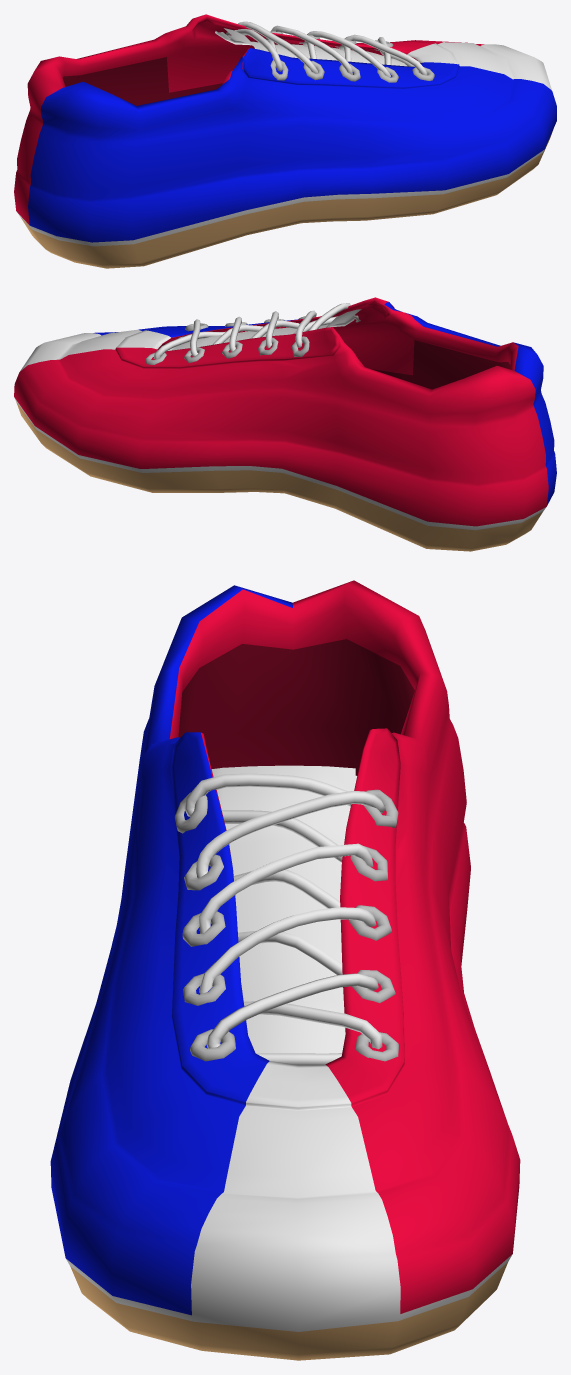
File: RightBowlingShoes.fbx
3 renders of one model, top to bottom at view 1: azimuth 30°, elevation 25°; view 2: azimuth 150°, elevation 25°; view 3: azimuth 270°, elevation 25°, orthographic. The views are drawn at different scales.
Visible parts, largest first — view 1: Shoes.R; view 2: Shoes.R; view 3: Shoes.R.
Boxes of the visible parts, x1,y1,x2,y2 form: Shoes.R: (14,14,556,268); Shoes.R: (14,297,556,551); Shoes.R: (50,580,520,1360).
Bounding box in the file's own units: 3912 × 1327 × 1544.
